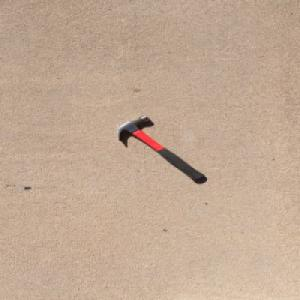Hammer: (116, 114, 206, 181)
